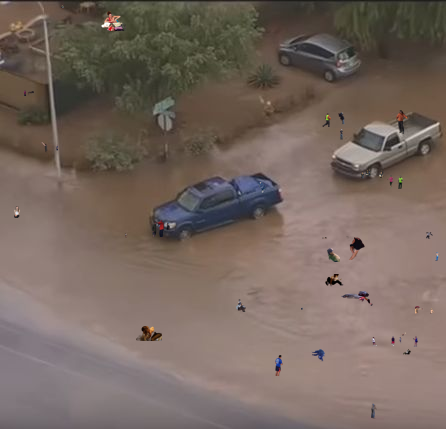Human: (372, 336, 418, 347), (257, 173, 281, 194), (101, 11, 126, 31), (341, 291, 373, 306), (346, 236, 366, 260), (144, 220, 170, 237), (405, 232, 433, 247), (136, 326, 162, 341), (322, 112, 345, 127), (325, 274, 347, 289), (396, 110, 409, 134), (360, 169, 384, 179), (387, 175, 403, 189), (41, 142, 58, 154), (327, 248, 340, 262), (311, 349, 325, 362), (275, 355, 283, 376), (371, 401, 380, 419), (415, 306, 435, 314), (236, 299, 246, 312), (14, 206, 20, 218), (24, 90, 34, 96), (403, 349, 411, 355), (435, 252, 440, 261), (340, 129, 343, 140), (401, 332, 406, 336), (124, 233, 127, 238), (322, 237, 327, 239), (61, 5, 64, 8), (301, 307, 303, 310), (199, 423, 200, 425)
